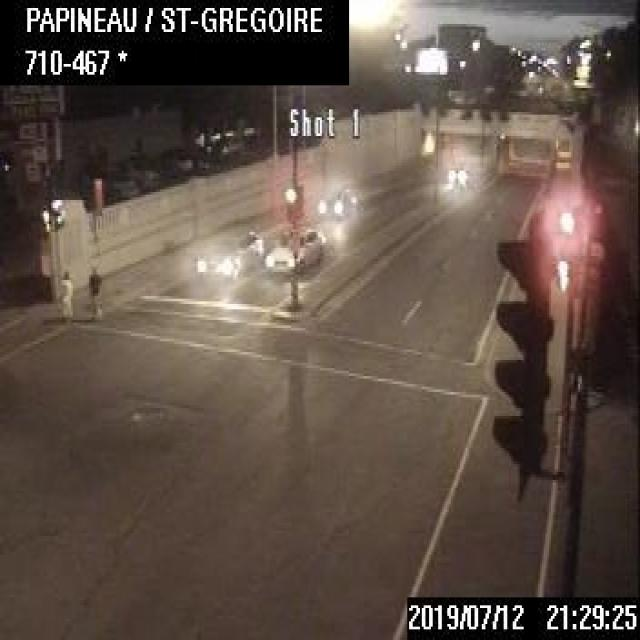pedestrian: (80, 261, 98, 320), (56, 264, 73, 320)
vehicle: (191, 223, 263, 280), (261, 224, 325, 274), (309, 179, 363, 216), (442, 155, 473, 184)
